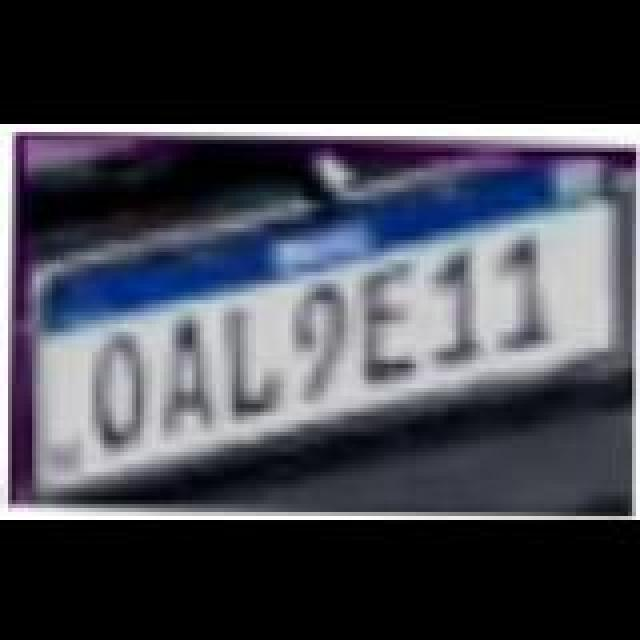1: (498, 228, 558, 348), (426, 244, 486, 364)
9: (290, 278, 350, 402)
A: (158, 314, 218, 438)
E: (356, 264, 420, 384)
L: (222, 300, 282, 420)
O: (90, 326, 158, 450)
